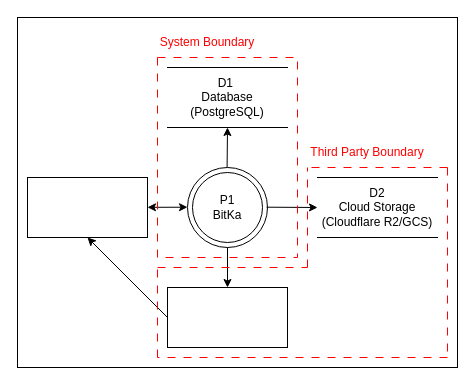
The diagram is 475 pixels wide and 385 high, and some of its shapes have lost their labels. The centre of each missing label's shape, as x and y in pixels:
MailGun: the point at 227,317
User: the point at 87,207
